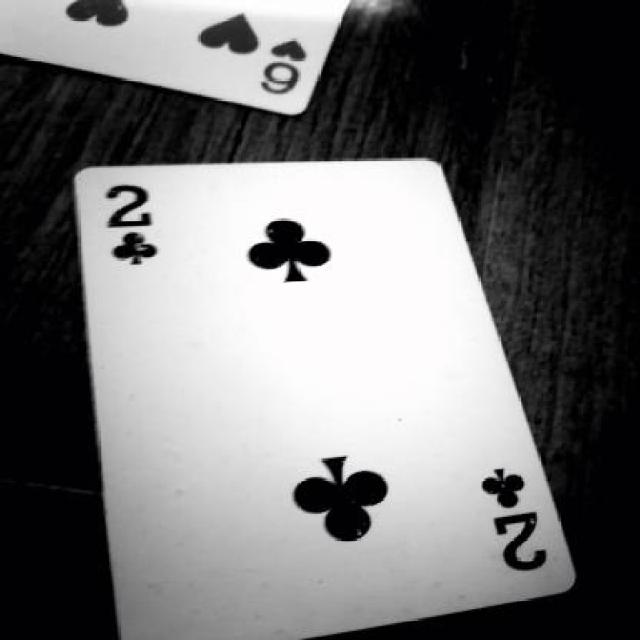2C: (472, 454, 570, 591), (92, 173, 174, 292)
